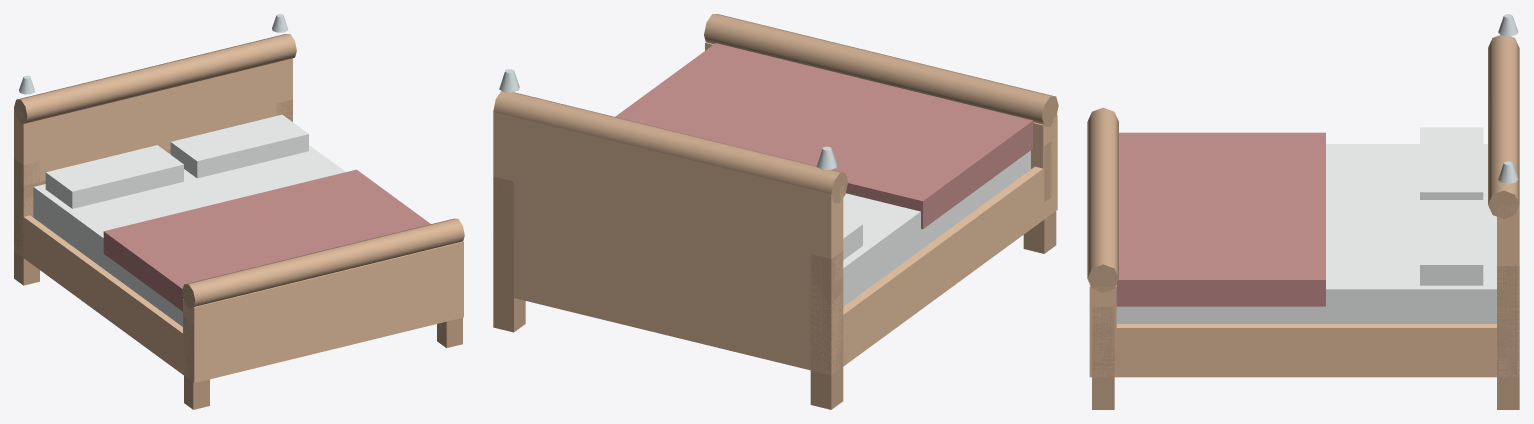
Rendered from bedQueenSleigh.glb.
3 renders of one model, left to right at view 1: azimuth 30°, elevation 25°; view 2: azimuth 150°, elevation 25°; view 3: azimuth 270°, elevation 25°, orthographic. The views are drawn at different scales.
Visible parts, largest first — view 1: bedQueenSleigh; view 2: bedQueenSleigh; view 3: bedQueenSleigh.
Boxes of the visible parts, bbox=[...] form: bedQueenSleigh: bbox=[14, 14, 464, 409]; bedQueenSleigh: bbox=[493, 14, 1058, 409]; bedQueenSleigh: bbox=[1087, 14, 1519, 409].
Size of the model in its own units: 0.82 by 0.59 by 0.955.
